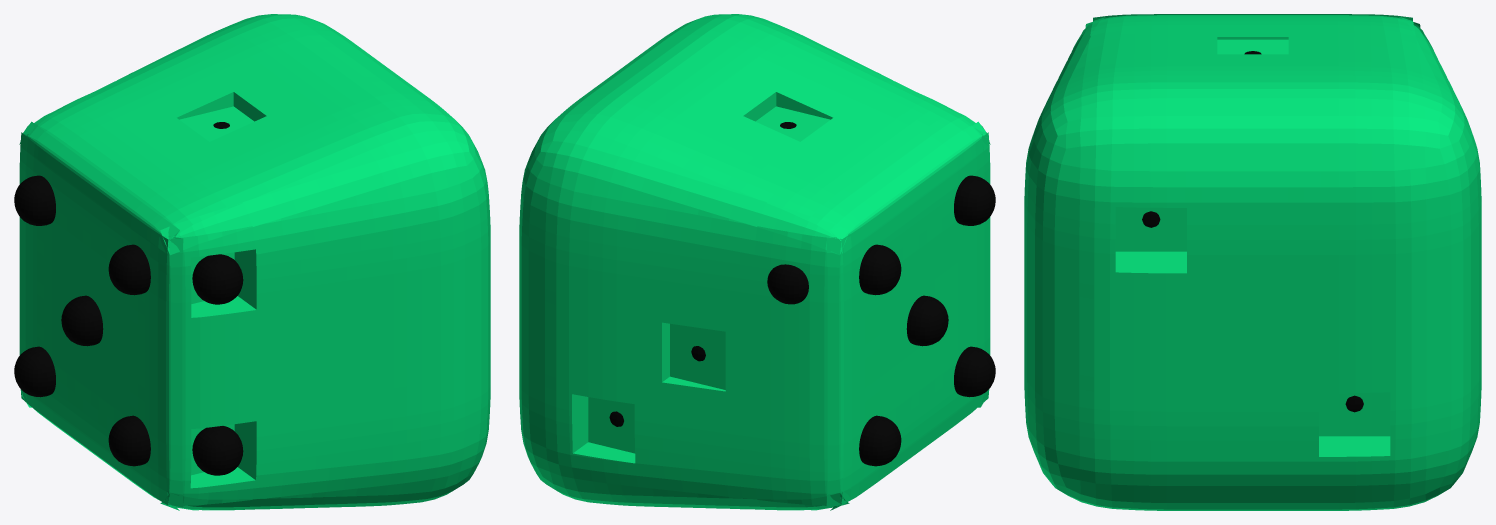
File: 8_growing_dice_green.gltf
3 renders of one model, left to right at view 1: azimuth 30°, elevation 25°; view 2: azimuth 150°, elevation 25°; view 3: azimuth 270°, elevation 25°, orthographic. The views are drawn at different scales.
Visible parts, largest first — view 1: D6_Dice_Green; view 2: D6_Dice_Green; view 3: D6_Dice_Green.
Part boxes in pixels (x1=…): D6_Dice_Green: x1=14, y1=14, x2=490, y2=510; D6_Dice_Green: x1=519, y1=14, x2=995, y2=510; D6_Dice_Green: x1=1024, y1=14, x2=1481, y2=510.
Bounding box in the file's own units: 2.16 × 2.25 × 2.25.
